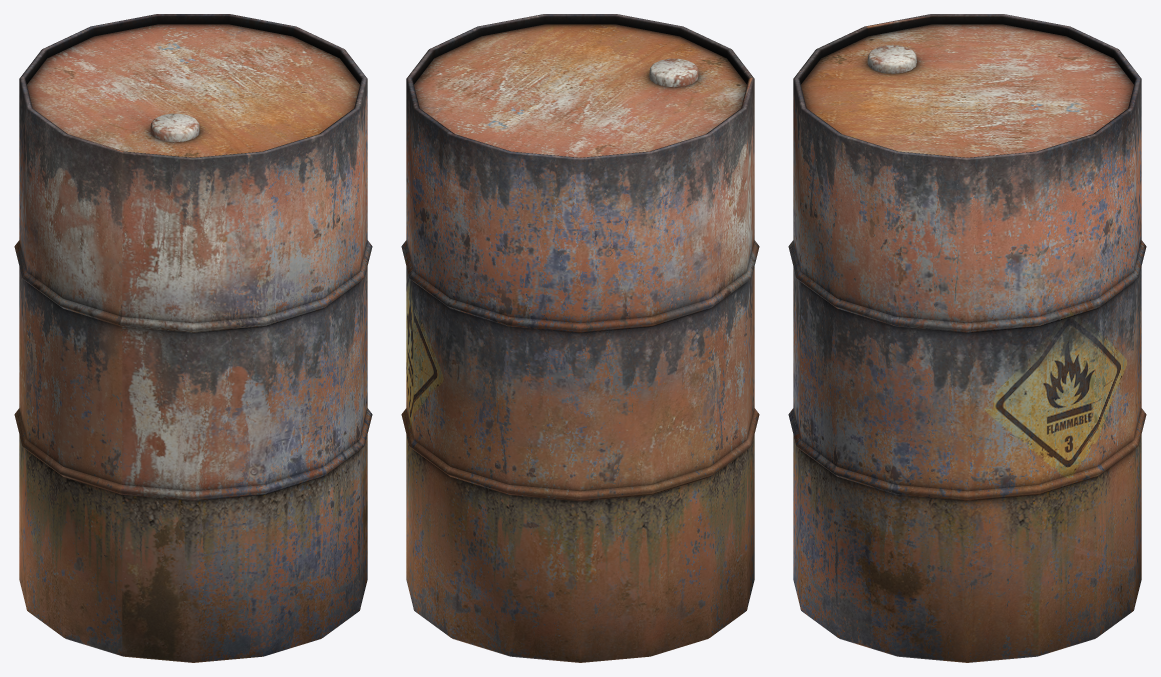
File: oil_drum.gltf
3 renders of one model, left to right at view 1: azimuth 30°, elevation 25°; view 2: azimuth 150°, elevation 25°; view 3: azimuth 270°, elevation 25°, orthographic.
Visible parts, largest first — view 1: Petrol Drum; view 2: Petrol Drum; view 3: Petrol Drum.
Part boxes in pixels (box(x1,y1,x2,y2)): Petrol Drum: box(14, 14, 372, 662); Petrol Drum: box(401, 14, 759, 662); Petrol Drum: box(788, 14, 1146, 662).
Size of the model in its own units: 1.79 by 2.82 by 1.8.
Materials: 1 (1 with a texture image).
